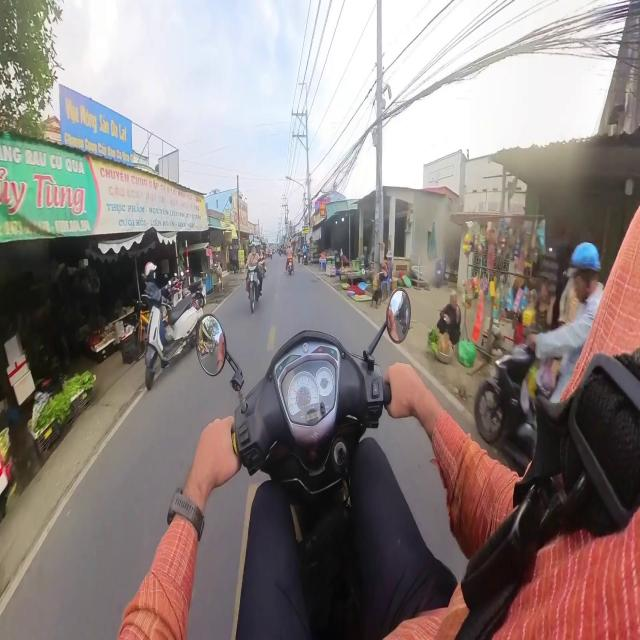motorcycle: (197, 290, 410, 638), (474, 346, 536, 472), (142, 283, 204, 389), (247, 265, 260, 313), (286, 258, 293, 274)
